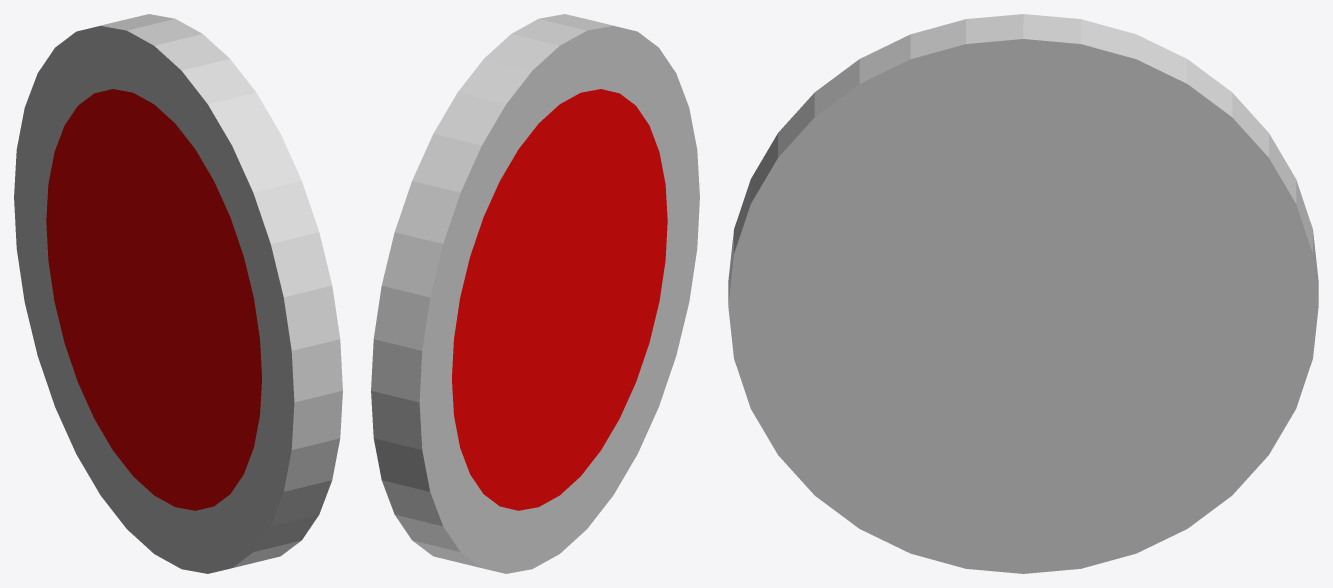
The model's file is target.fbx.
3 views of the same model, side by side, from view 1: azimuth 30°, elevation 25°; view 2: azimuth 150°, elevation 25°; view 3: azimuth 270°, elevation 25° (orthographic). The views are drawn at different scales.
Parts seen in each view (by area): view 1: Cylinder; view 2: Cylinder; view 3: Cylinder.
Part boxes in pixels (x1=…): Cylinder: x1=14, y1=14, x2=342, y2=573; Cylinder: x1=371, y1=14, x2=699, y2=573; Cylinder: x1=728, y1=14, x2=1318, y2=573.
Size of the model in its own units: 20 by 200 by 200.
